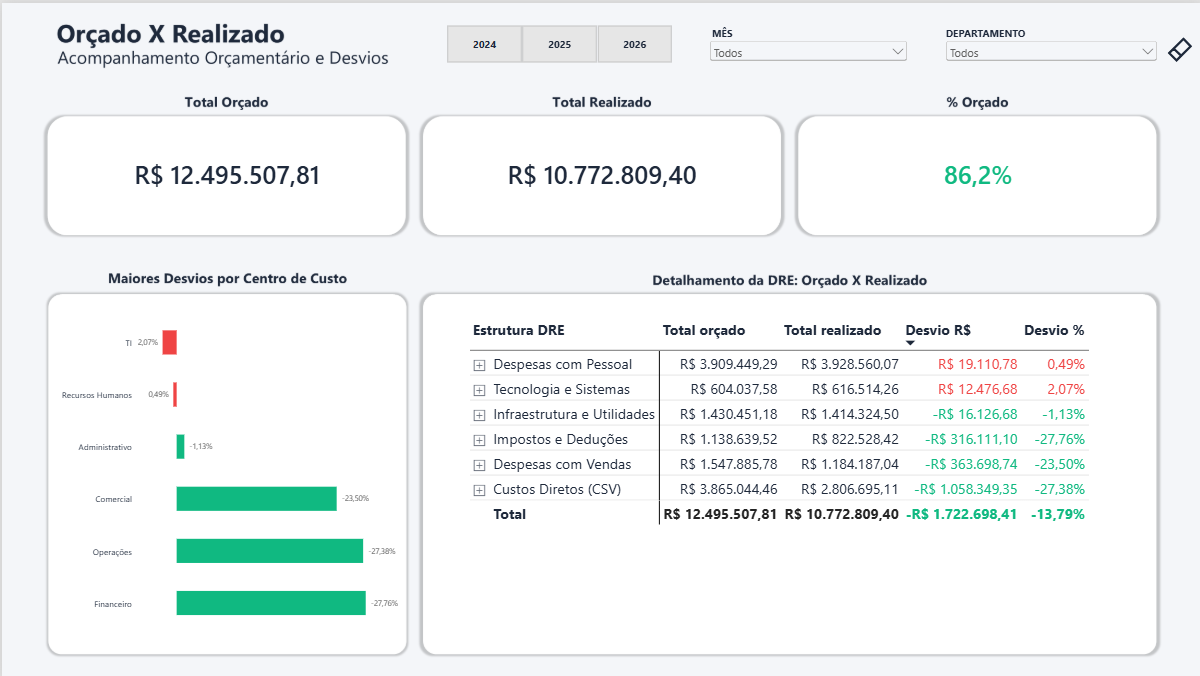

What the dashboard file says about the page in this screenshot:
{"tool":"powerbi","page":{"name":"ORÇADO X REALIZADO","canvas":[1920,1080],"ordinal":2},"visuals":[{"type":"cardVisual","fields":{"Data":["MEDIDAS.Total orçado sem receita"]},"box":[71.7,178.3,576.7,190],"z":0},{"type":"cardVisual","fields":{"Data":["MEDIDAS.Custos e despesas totais"]},"box":[671.4,177.1,576.7,190],"z":1000},{"type":"cardVisual","fields":{"Data":["MEDIDAS.Percentual orçado"]},"box":[1274.3,178.6,576.7,190],"z":2000},{"type":"clusteredBarChart","fields":{"Category":["dCentroCusto.Departamento"],"Y":["MEDIDAS.Desvio % sem receita"]},"box":[71.1,468.9,577.8,563.3],"z":3000},{"type":"pivotTable","fields":{"Rows":["dCentroCusto.Categoria_DRE","dCentroCusto.Nome_CentroCusto"],"Values":["MEDIDAS.Total orçado","MEDIDAS.Custos e despesas totais","MEDIDAS.Desvio R$","MEDIDAS.Desvio %"]},"box":[732,488,1034,518],"z":4000},{"type":"slicer","fields":{"Values":["dCalendario.Ano"]},"box":[691.7,33.3,398.6,62.9],"z":5000},{"type":"slicer","fields":{"Values":["dCalendario.AnoMes.Variation.Hierarquia de datas.Mês"]},"box":[1128.3,56.3,325,41.7],"z":6000},{"type":"textbox","box":[1136,36.7,268.3,45],"z":7000},{"type":"textbox","box":[1510,36.7,268.3,45],"z":8000},{"type":"slicer","fields":{"Values":["dCentroCusto.Departamento"]},"box":[1505,56.7,346.7,41.7],"z":9000},{"type":"actionButton","box":[1855,46.7,58.3,58.3],"z":10000}]}

Visuals, with their boxes in screenshot pixels (x1, y1, x2, y2), scaled from the page's 1920x1080 canvas onto the 1200x676 screenshot:
cardVisual - MEDIDAS.Total orçado sem receita: [45,112,405,231]
cardVisual - MEDIDAS.Custos e despesas totais: [420,111,780,230]
cardVisual - MEDIDAS.Percentual orçado: [796,112,1157,231]
clusteredBarChart - dCentroCusto.Departamento x MEDIDAS.Desvio % sem receita: [44,293,406,646]
pivotTable - dCentroCusto.Categoria_DRE x dCentroCusto.Nome_CentroCusto: [458,305,1104,630]
slicer - dCalendario.Ano: [432,21,681,60]
slicer - dCalendario.AnoMes.Variation.Hierarquia de datas.Mês: [705,35,908,61]
textbox: [710,23,878,51]
textbox: [944,23,1111,51]
slicer - dCentroCusto.Departamento: [941,35,1157,62]
actionButton: [1159,29,1196,66]
